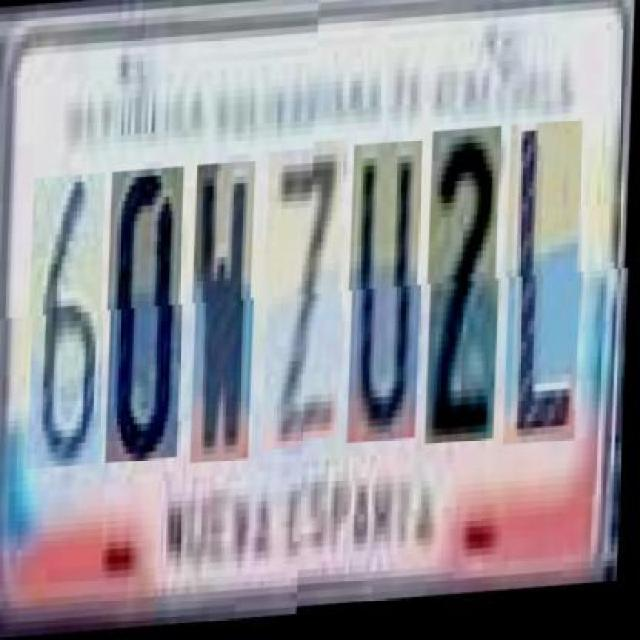0: (109, 169, 189, 466)
2: (428, 143, 506, 460)
6: (31, 175, 111, 470)
l: (506, 137, 588, 461)
u: (350, 154, 428, 457)
w: (193, 165, 261, 468)
z: (265, 152, 349, 454)
